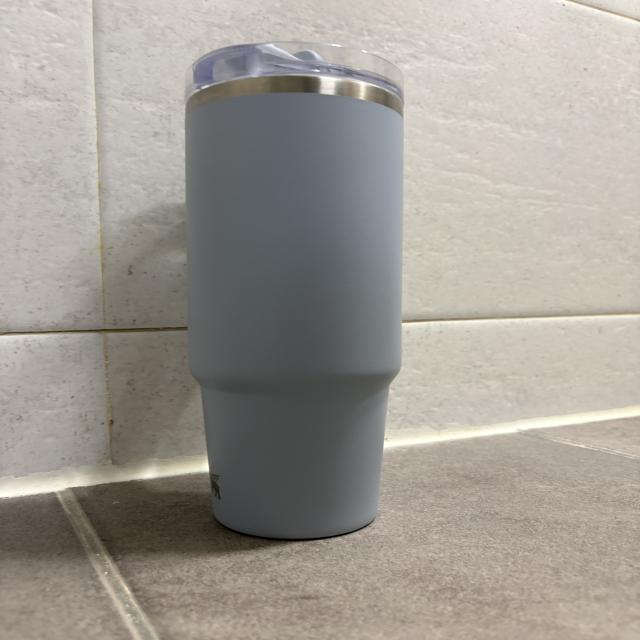waterbottle: (186, 40, 402, 542)
